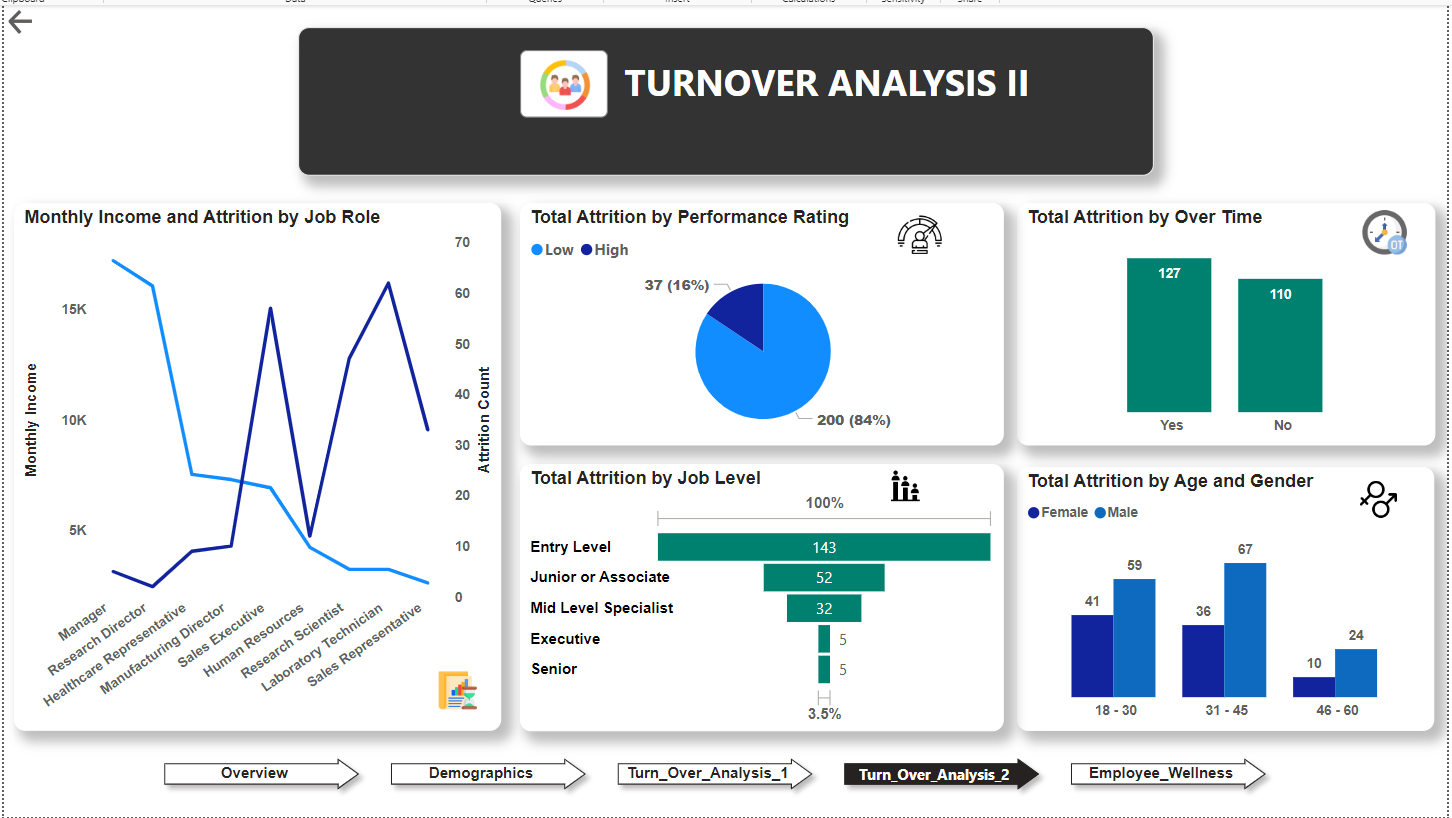

What the dashboard file says about the page in this screenshot:
{"tool":"powerbi","page":{"name":"Turn_Over_Analysis_2","canvas":[1280,720],"ordinal":3},"visuals":[{"type":"textbox","box":[260.7,19.5,759,132.1],"z":0},{"type":"image","box":[457.9,40.3,77.8,60.5],"z":1000},{"type":"lineChart","title":"Monthly Income and Attrition by Job Role","fields":{"Category":["HR-Employee-Attrition.JobRole"],"Y":["Avg(HR-Employee-Attrition.MonthlyIncome)"],"Y2":["Sum(HR-Employee-Attrition.Attrition Count)"]},"box":[8.9,175.6,431.8,468.2],"z":2000},{"type":"clusteredColumnChart","title":"Total Attrition by Age and Gender","fields":{"Category":["HR-Employee-Attrition.Age (groups)"],"Y":["Sum(HR-Employee-Attrition.Attrition Count)"],"Series":["HR-Employee-Attrition.Gender"]},"box":[898.2,409.7,369.8,234.1],"z":3000},{"type":"columnChart","title":"Total Attrition by Over Time","fields":{"Category":["HR-Employee-Attrition.OverTime"],"Y":["Sum(HR-Employee-Attrition.Attrition Count)"]},"box":[898.2,175.6,370.6,215.5],"z":4000},{"type":"pieChart","title":"Total Attrition by Performance Rating","fields":{"Y":["Sum(HR-Employee-Attrition.Attrition Count)"],"Category":["HR-Employee-Attrition.PerformanceRating (groups)"]},"box":[457.5,175.6,429.2,215.5],"z":5000},{"type":"funnel","title":"Total Attrition by Job Level","fields":{"Y":["Sum(HR-Employee-Attrition.Attrition Count)"],"Category":["HR-Employee-Attrition.JobLevel (groups)"]},"box":[457.5,407,429.2,236.7],"z":6000},{"type":"image","box":[380.4,581.7,44.3,52.3],"z":7000},{"type":"image","box":[1180.2,175.6,87.8,52.3],"z":8000},{"type":"image","box":[742.2,404.3,113.5,44.3],"z":9000},{"type":"image","box":[1180.2,415.9,77.1,45.2],"z":10000},{"type":"image","box":[770.5,179.1,83.3,48.8],"z":11000},{"type":"pageNavigator","box":[133,658.8,998.4,46.1],"z":12000},{"type":"actionButton","box":[0,0,69.2,30.1],"z":13000}]}

Visuals, with their boxes on the page's 1280x720 design canvas (x1, y1, x2, y2). These are canvas units, not pixel positions in the 1452x818 screenshot, which may show the page scaled, cropped or inside an application window:
textbox: (261,20,1020,152)
image: (458,40,536,101)
"Monthly Income and Attrition by Job Role" lineChart: (9,176,441,644)
"Total Attrition by Age and Gender" clusteredColumnChart: (898,410,1268,644)
"Total Attrition by Over Time" columnChart: (898,176,1269,391)
"Total Attrition by Performance Rating" pieChart: (458,176,887,391)
"Total Attrition by Job Level" funnel: (458,407,887,644)
image: (380,582,425,634)
image: (1180,176,1268,228)
image: (742,404,856,449)
image: (1180,416,1257,461)
image: (770,179,854,228)
pageNavigator: (133,659,1131,705)
actionButton: (0,0,69,30)
